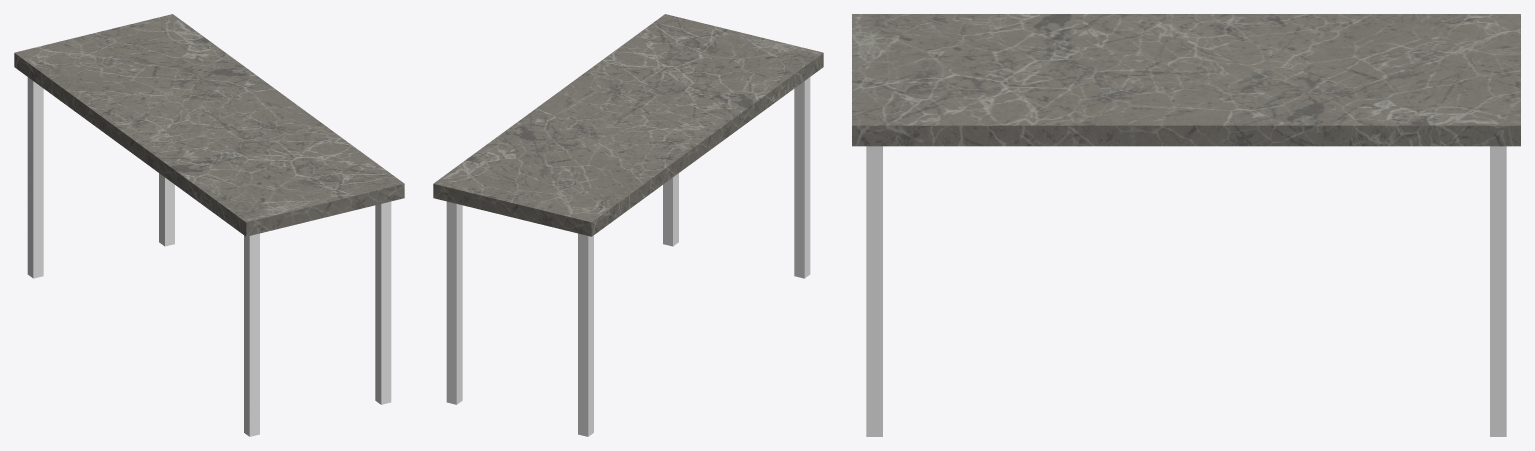
The model's file is Table.fbx.
The picture shows the model from 3 angles, left to right: view 1: azimuth 30°, elevation 25°; view 2: azimuth 150°, elevation 25°; view 3: azimuth 270°, elevation 25°; orthographic projection. The views are drawn at different scales.
Parts seen in each view (by area): view 1: pCube12; view 2: pCube12; view 3: pCube12.
Part boxes in pixels (bbox=[...]): pCube12: bbox=[14, 14, 404, 436]; pCube12: bbox=[433, 14, 823, 436]; pCube12: bbox=[852, 14, 1520, 436].
Size of the model in its own units: 39.47 by 52.37 by 100.
Materials: 1 (1 with a texture image).
